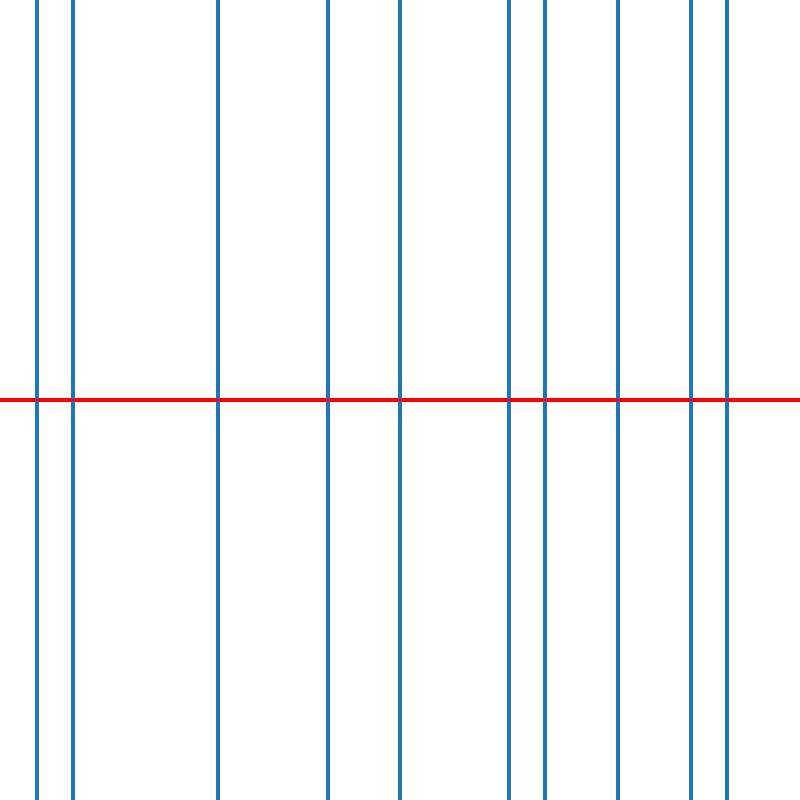root: (541, 396, 549, 404), (32, 396, 40, 404), (614, 396, 621, 404), (396, 396, 403, 404), (687, 396, 694, 404), (505, 396, 512, 404), (723, 396, 730, 404), (69, 396, 76, 404), (214, 396, 221, 404), (323, 396, 330, 404)
